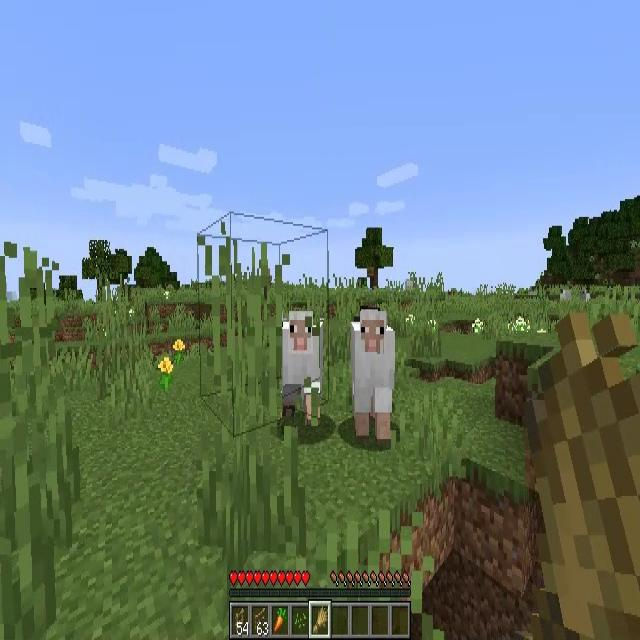flower: (156, 356, 174, 396), (172, 338, 185, 360), (516, 316, 528, 332), (471, 318, 482, 335)
sheep: (351, 311, 395, 444), (282, 311, 320, 426), (560, 289, 571, 306)
